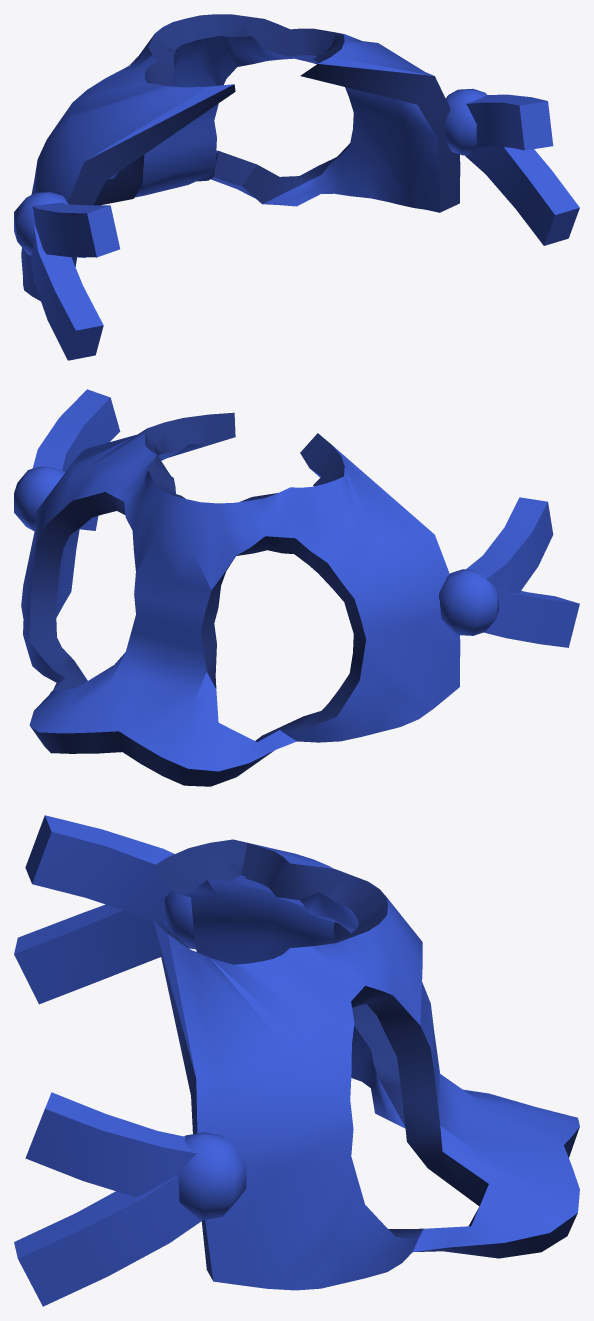
File: masque_heros.fbx
3 views of the same model, one above another, from view 1: azimuth 30°, elevation 25°; view 2: azimuth 150°, elevation 25°; view 3: azimuth 270°, elevation 25° (orthographic). The views are drawn at different scales.
Visible parts, largest first — view 1: masque_heros; view 2: masque_heros; view 3: masque_heros.
Part boxes in pixels (bbox=[...]): masque_heros: bbox=[14, 14, 579, 360]; masque_heros: bbox=[14, 389, 579, 786]; masque_heros: bbox=[14, 815, 579, 1306].
Bounding box in the file's own units: 0.7639 × 0.3399 × 0.569.
